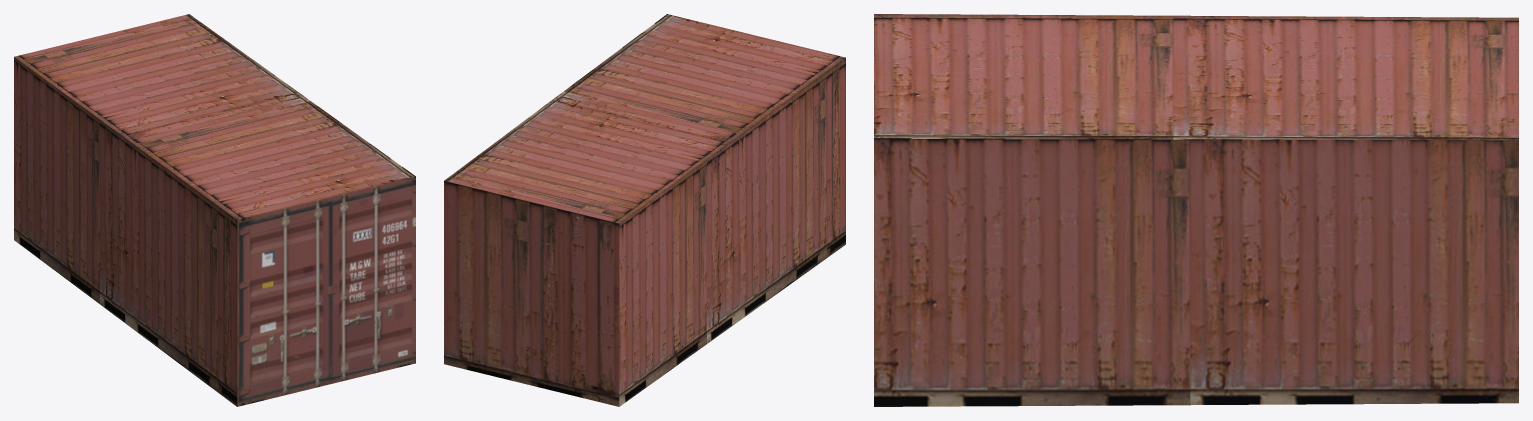
Rendered from Container Red.FBX.
3 renders of one model, left to right at view 1: azimuth 30°, elevation 25°; view 2: azimuth 150°, elevation 25°; view 3: azimuth 270°, elevation 25°, orthographic. The views are drawn at different scales.
Visible parts, largest first — view 1: Container Red; view 2: Container Red; view 3: Container Red.
Part boxes in pixels (box(x1,y1,x2,y2)): Container Red: box(14, 14, 415, 406); Container Red: box(444, 14, 845, 406); Container Red: box(874, 14, 1518, 406).
Bounding box in the file's own units: 91.74 × 91.74 × 200.
Materials: 1 (1 with a texture image).
